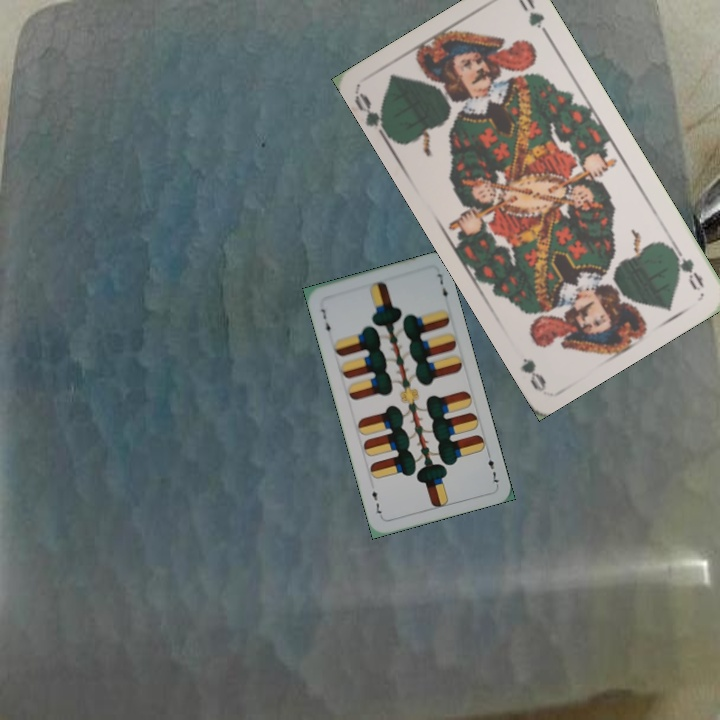E7: (483, 448, 501, 487), (317, 305, 333, 338)
GO: (664, 239, 707, 294), (352, 89, 394, 144)
